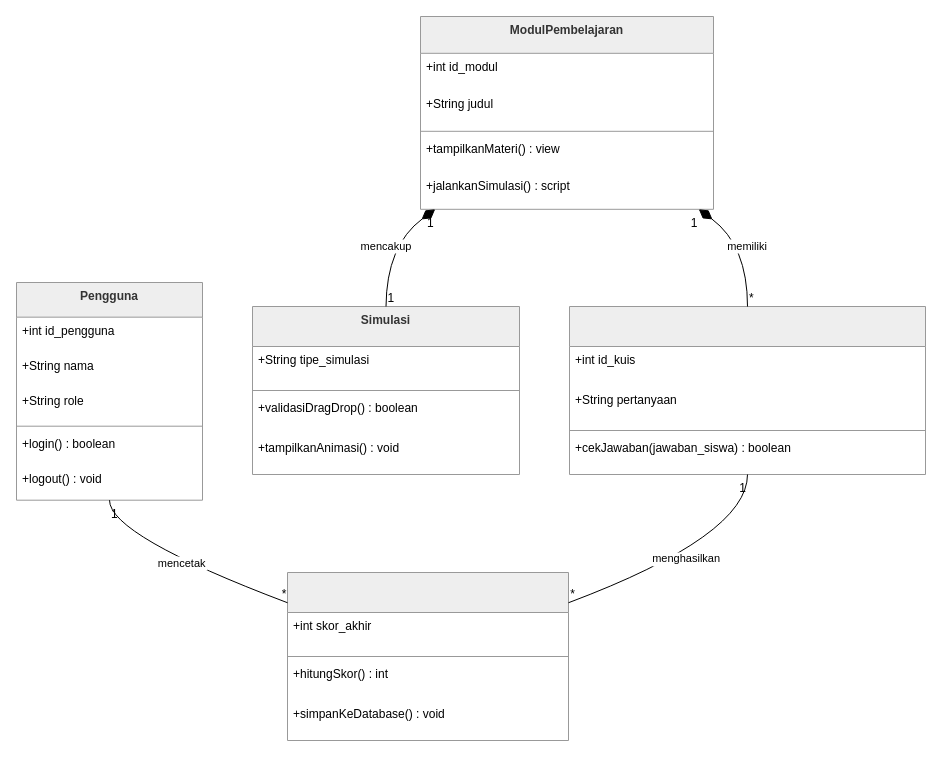
This 942x757 diagram has some shape labels left out. The shapes that lost their labels are listed below. From the top down, each one's box as (x1, y1, x2, y2) in pixels, then its label:
(568, 306, 926, 474): KuisEvaluasi
(286, 572, 568, 740): SistemPenilaian
